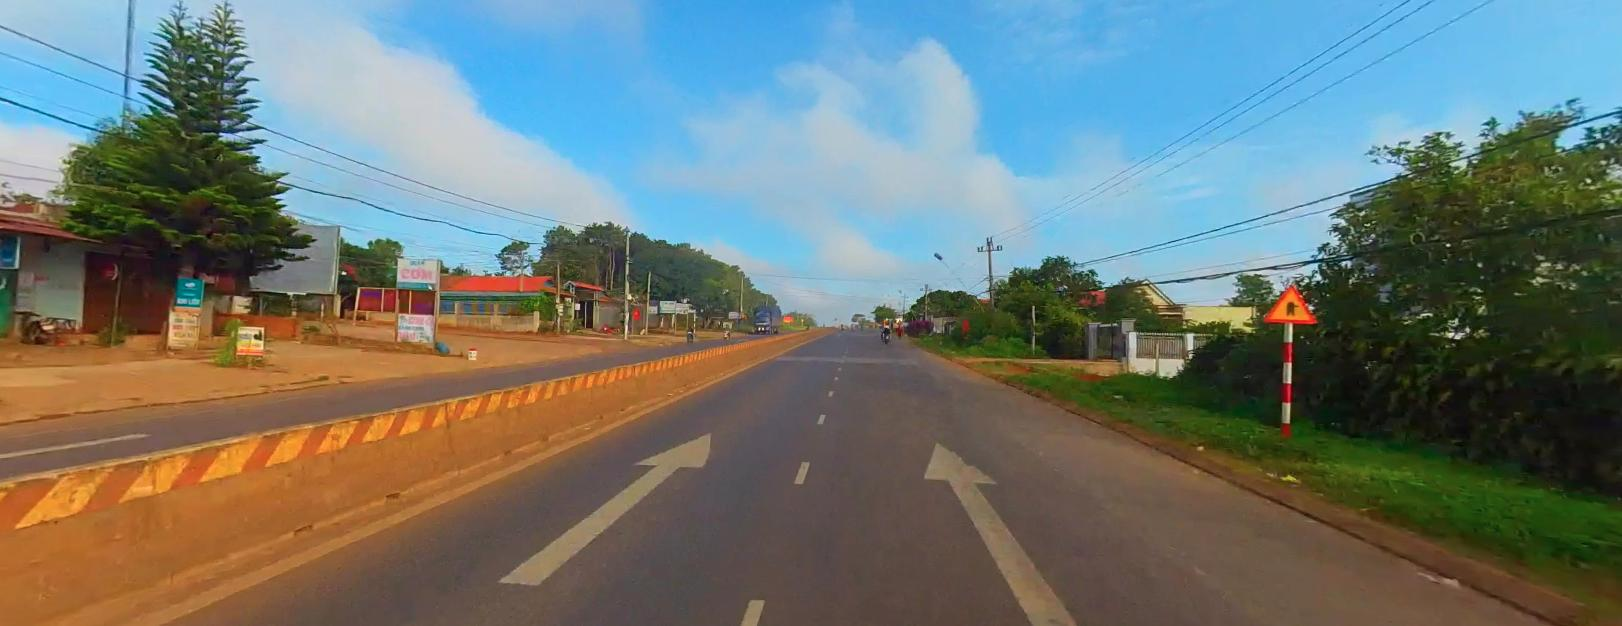Nguy hiem: (1264, 285, 1315, 321)
